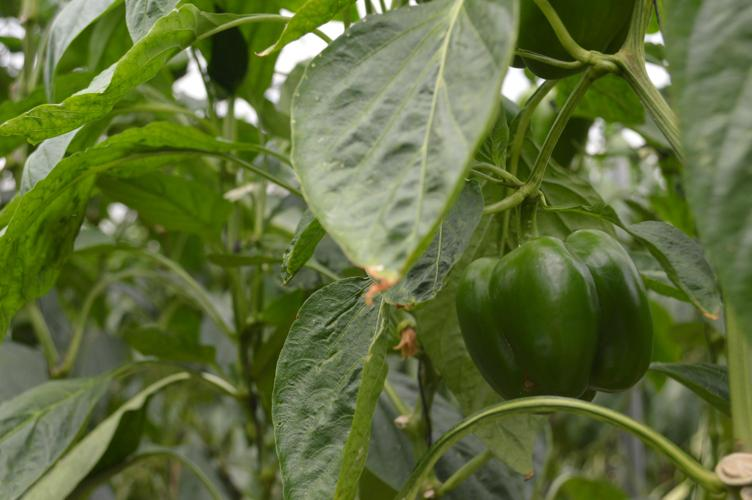BellPepper: (457, 229, 654, 399)
